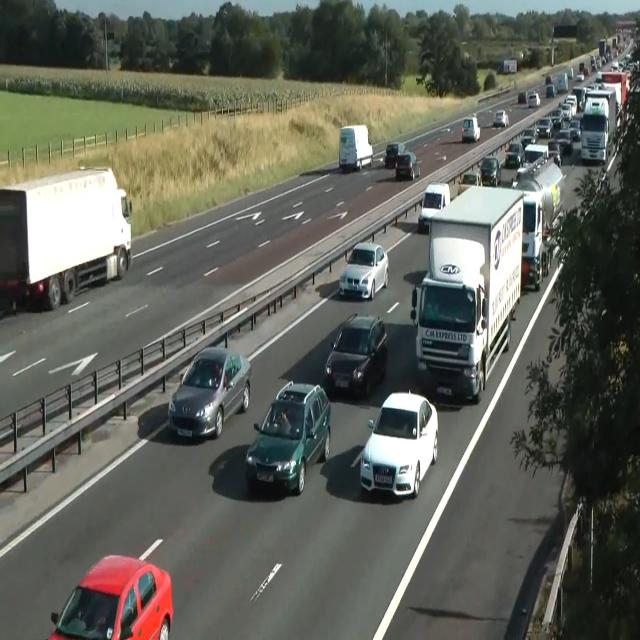bus: (46, 554, 174, 639), (245, 380, 331, 495), (359, 389, 438, 499), (167, 346, 251, 439), (338, 241, 388, 300), (394, 151, 420, 181), (479, 156, 501, 187), (383, 142, 407, 168), (458, 170, 482, 194), (505, 141, 525, 167), (461, 116, 480, 142), (547, 141, 563, 167), (555, 129, 573, 152), (520, 127, 538, 149), (548, 108, 564, 128), (493, 109, 509, 128), (568, 120, 581, 140), (526, 90, 540, 108), (546, 84, 556, 98), (518, 91, 526, 104), (576, 72, 584, 82), (610, 61, 618, 71)
jeep: (324, 311, 388, 397), (418, 180, 450, 233)
minibus: (410, 184, 524, 402), (0, 165, 132, 311), (511, 156, 566, 234), (518, 189, 552, 290), (580, 87, 618, 165), (339, 124, 373, 172), (497, 58, 517, 74)
